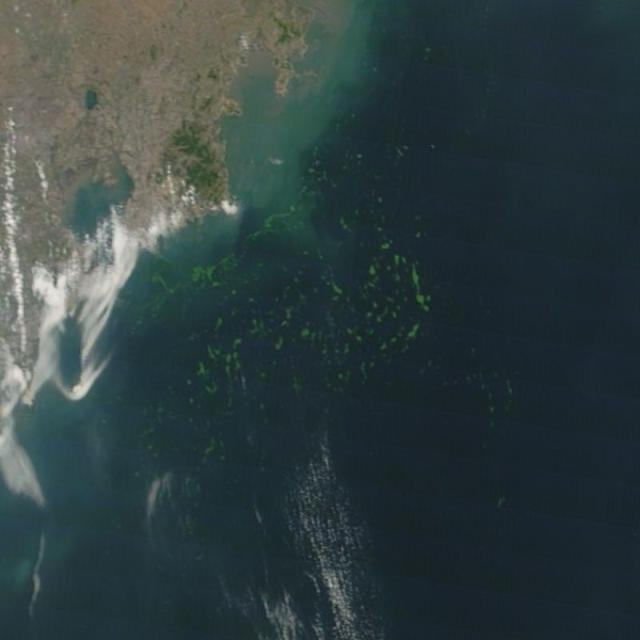algal: (96, 69, 515, 507)
